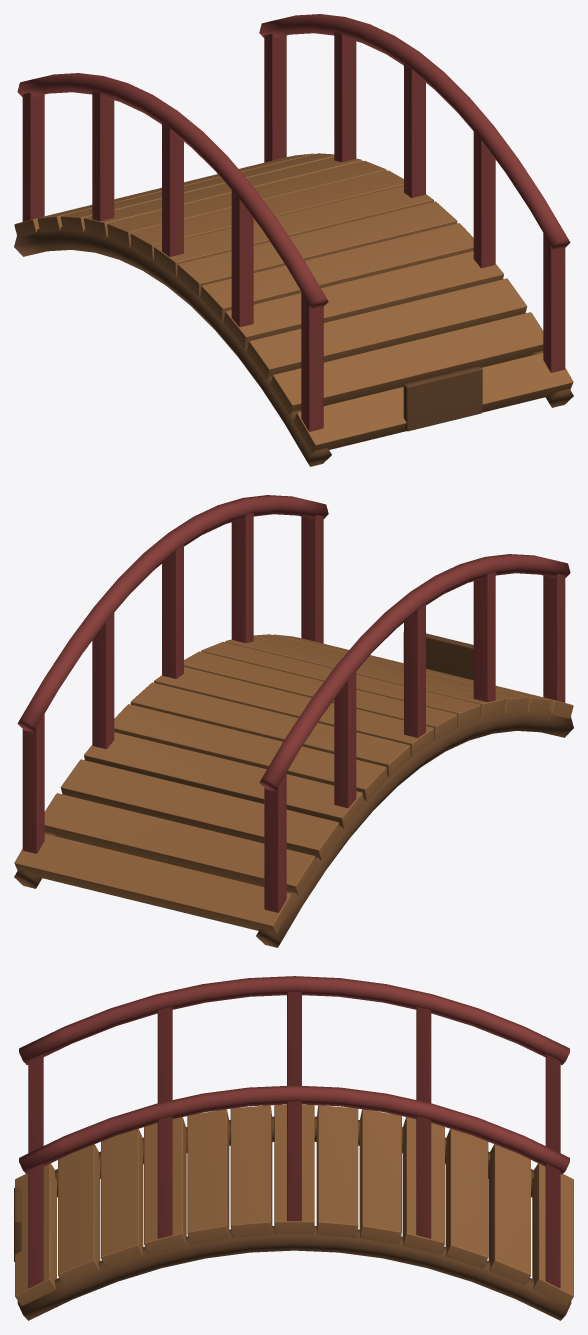
Rendered from S074_arched_garden_bridge_rebuilt.glb.
3 renders of one model, top to bottom at view 1: azimuth 30°, elevation 25°; view 2: azimuth 150°, elevation 25°; view 3: azimuth 270°, elevation 25°, orthographic. The views are drawn at different scales.
Parts seen in each view (by area): view 1: Oiled_warm_oak.001, Burgundy_upholstery.001, Oak_end_and_edge.001; view 2: Oiled_warm_oak.001, Burgundy_upholstery.001, Oak_end_and_edge.001; view 3: Oiled_warm_oak.001, Burgundy_upholstery.001, Oak_end_and_edge.001.
Boxes of the visible parts, box(x1,y1,x2,y2) form: Oiled_warm_oak.001: box(14, 153, 573, 452); Burgundy_upholstery.001: box(17, 14, 570, 431); Oak_end_and_edge.001: box(14, 227, 573, 466); Oiled_warm_oak.001: box(14, 634, 573, 933); Burgundy_upholstery.001: box(17, 495, 570, 912); Oak_end_and_edge.001: box(14, 632, 573, 947); Oiled_warm_oak.001: box(15, 1105, 573, 1305); Burgundy_upholstery.001: box(19, 976, 569, 1288); Oak_end_and_edge.001: box(14, 1116, 571, 1320).
Size of the model in its own units: 1.38 by 1.23 by 2.7.
